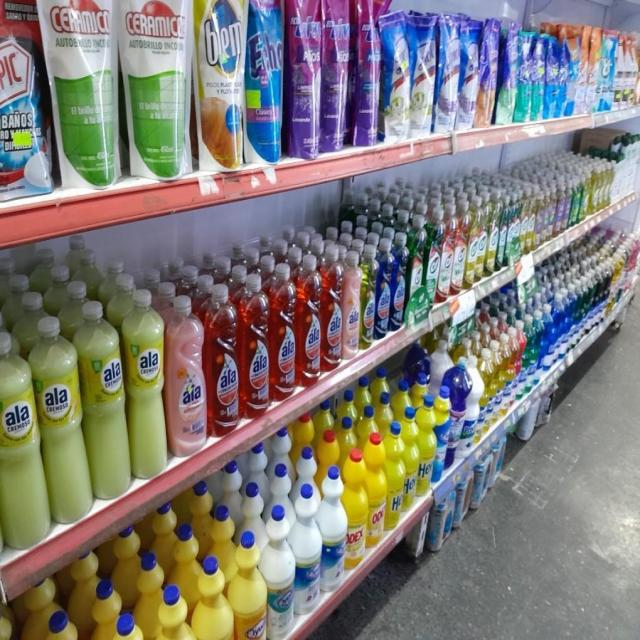ala_conc_azul: (376, 236, 391, 340), (361, 243, 375, 349), (392, 230, 406, 332)
ala_conc_rojo: (207, 282, 239, 437), (240, 273, 269, 420), (270, 262, 296, 401), (296, 253, 321, 389), (322, 246, 342, 372)
ala_crem_amarillo: (40, 313, 87, 527), (0, 327, 43, 551), (84, 300, 127, 503), (127, 288, 165, 482)
ala_ultra_rosa: (166, 293, 206, 457), (343, 248, 360, 359)
cif_conc_bot_amarilla: (469, 193, 487, 284), (488, 188, 499, 276), (522, 183, 534, 255)
cif_conc_botella_verde: (408, 214, 425, 325), (426, 206, 441, 309), (508, 189, 520, 265), (498, 190, 508, 272)
cif_conc_sachet_amarillo: (196, 0, 243, 170)
